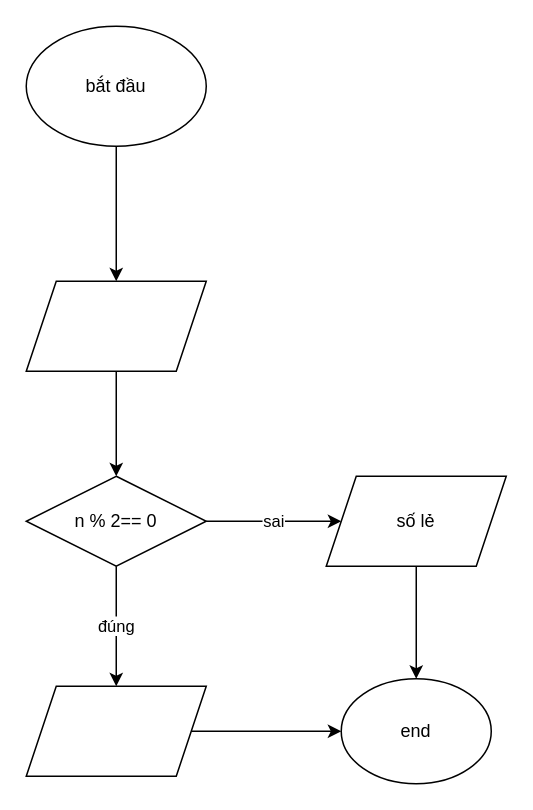
Image size: 533x810. Some labels were removed from this diagram. The shapes that lost their labels are listed below. From the top down, each one's box as (x1, y1, x2, y2) in pixels, then its label:
(25, 280, 206, 371): nhập số n
(25, 685, 206, 776): số chẵn
